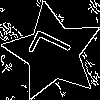L: (28, 27, 81, 73)
